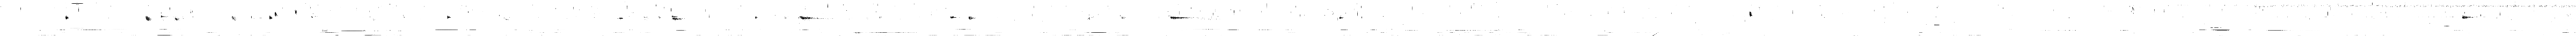meteor: (798, 16, 818, 20), (1170, 16, 1189, 20), (2461, 15, 2472, 20), (672, 15, 682, 20), (161, 15, 168, 20), (274, 11, 279, 18), (146, 16, 151, 21), (174, 16, 179, 21), (969, 16, 976, 20), (1750, 11, 1753, 18), (269, 15, 273, 20), (294, 10, 297, 15), (951, 16, 958, 18)
